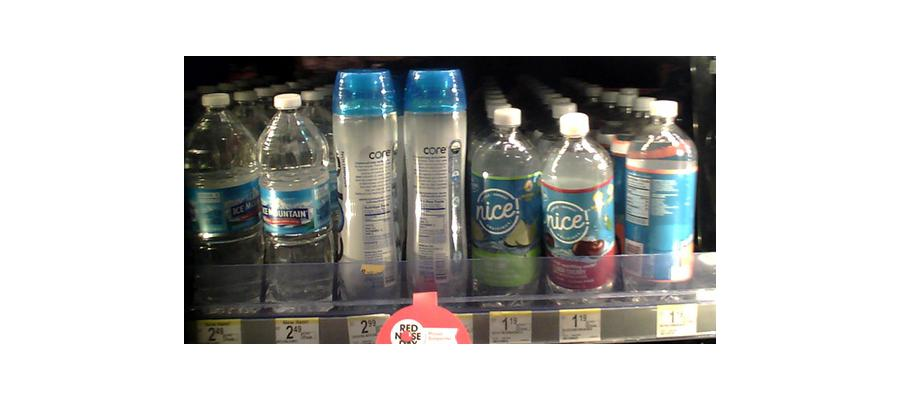bottle: (257, 89, 335, 313), (332, 71, 403, 306), (618, 96, 696, 300), (186, 94, 257, 316), (402, 64, 466, 300), (543, 109, 617, 300), (470, 102, 540, 299)
